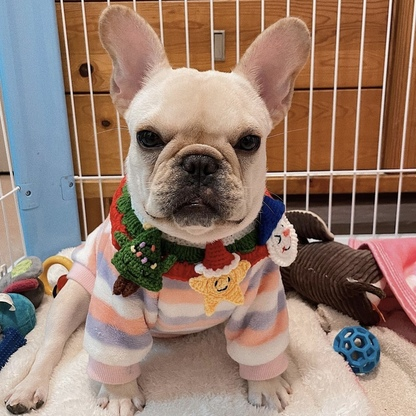bulldog: (2, 2, 313, 414)
